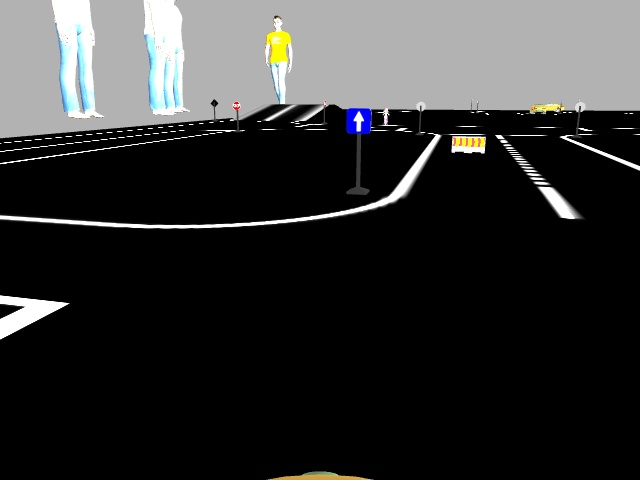ClosedRoadStand: (452, 136, 484, 153)
OneWay: (348, 107, 371, 132)
